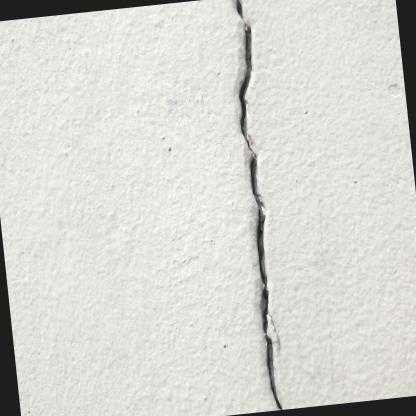crack: (231, 0, 286, 410)
